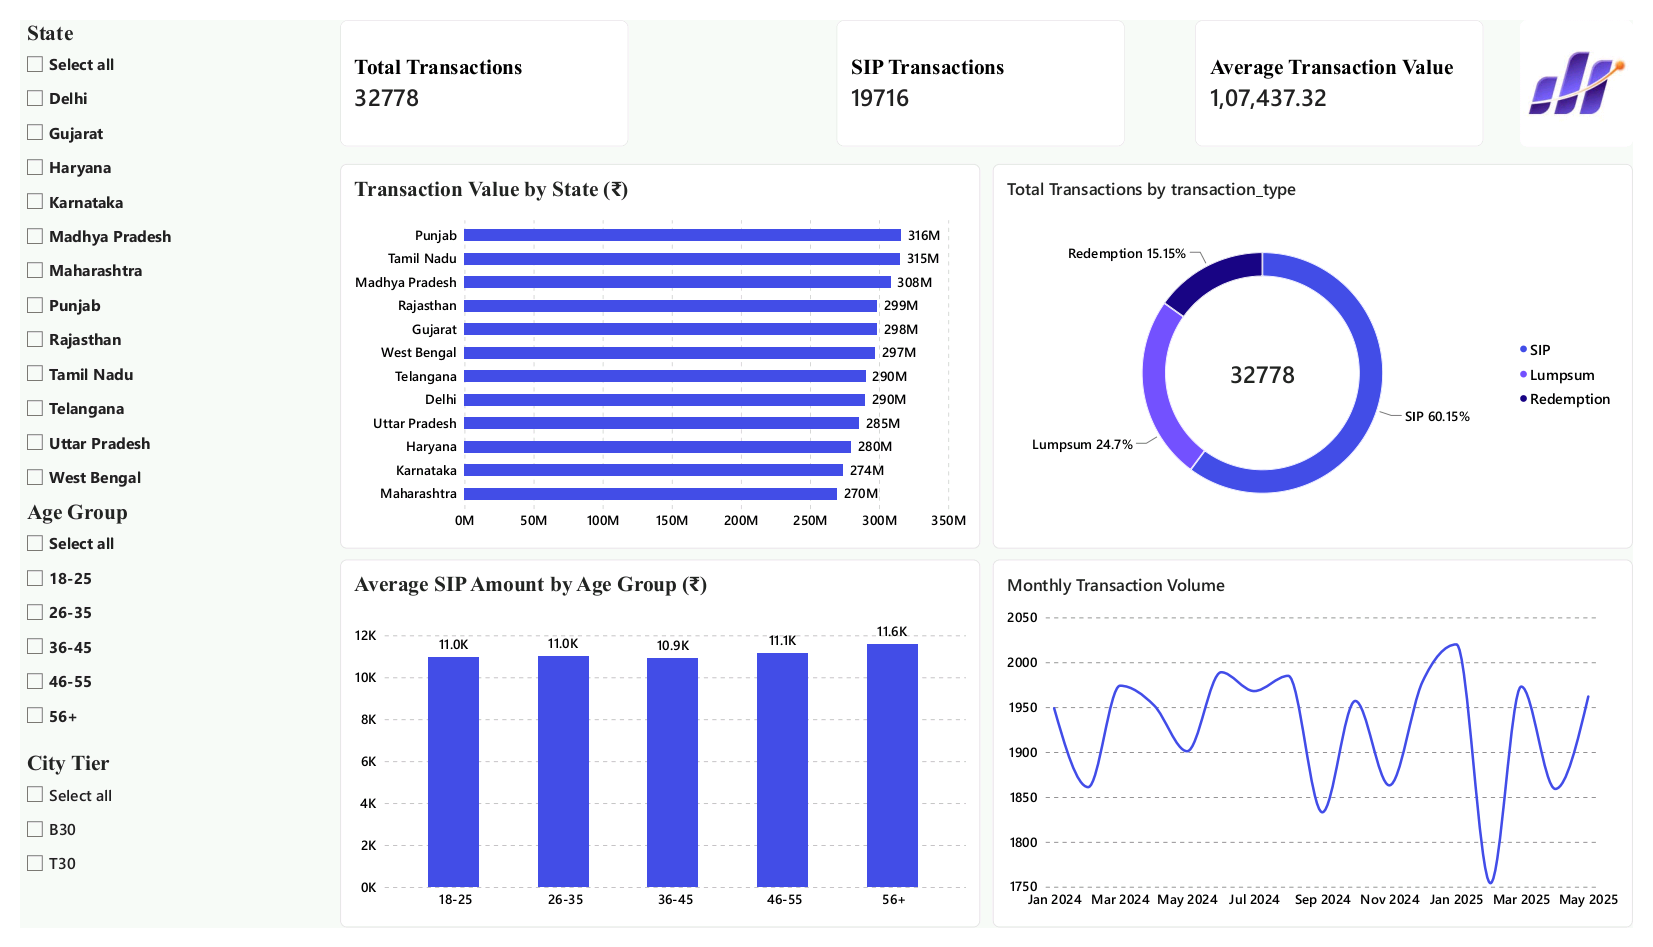

What the dashboard file says about the page in this screenshot:
{"tool":"powerbi","page":{"name":"Investor & Risk Analysis","canvas":[1920,1080],"ordinal":2},"visuals":[{"type":"cardVisual","fields":{"Data":["fact_transactions.Total Transactions"]},"box":[381.2,0,342.9,149.5],"z":0},{"type":"cardVisual","fields":{"Data":["fact_transactions.SIP Transactions"]},"box":[896.5,0,342.9,149.5],"z":1000},{"type":"cardVisual","fields":{"Data":["fact_transactions.Average Transaction Value"]},"box":[1398.8,0,342.9,149.5],"z":2000},{"type":"clusteredBarChart","title":"Transaction Value by State (₹)","fields":{"Category":["fact_transactions.state"],"Y":["Sum(fact_transactions.amount_inr)"]},"box":[381.2,171.4,762.3,457.8],"z":3000},{"type":"donutChart","fields":{"Category":["fact_transactions.transaction_type"],"Y":["fact_transactions.Total Transactions"]},"box":[1158.1,171.4,762.3,457.8],"z":4000},{"type":"clusteredColumnChart","title":"Average SIP Amount by Age Group (₹)","fields":{"Category":["fact_transactions.age_group"],"Y":["fact_transactions.Average SIP Amount"]},"box":[381.2,641.9,762.3,437.7],"z":5000},{"type":"lineChart","title":"Monthly Transaction Volume","fields":{"Category":["dim_date.date.Variation.Date Hierarchy.Year","dim_date.date.Variation.Date Hierarchy.Month"],"Y":["fact_transactions.Transaction Volume"]},"box":[1158.1,641.9,762.3,437.7],"z":6000},{"type":"slicer","fields":{"Values":["fact_transactions.state"]},"box":[0,0,342.9,570.7],"z":7000},{"type":"slicer","fields":{"Values":["fact_transactions.age_group"]},"box":[0,570.7,321.2,299.5],"z":8000},{"type":"slicer","fields":{"Values":["fact_transactions.city_tier"]},"box":[0,870.2,321.2,171.4],"z":9000},{"type":"image","box":[1786,0,134,150],"z":10000}]}

Visuals, with their boxes in screenshot pixels (x1, y1, x2, y2), scaled from the page's 1920x1080 canvas onto the 1653x947 screenshot:
cardVisual - fact_transactions.Total Transactions: [328,0,623,131]
cardVisual - fact_transactions.SIP Transactions: [772,0,1067,131]
cardVisual - fact_transactions.Average Transaction Value: [1204,0,1499,131]
"Transaction Value by State (₹)" clusteredBarChart: [328,150,984,552]
donutChart - fact_transactions.transaction_type x fact_transactions.Total Transactions: [997,150,1652,552]
"Average SIP Amount by Age Group (₹)" clusteredColumnChart: [328,563,984,946]
"Monthly Transaction Volume" lineChart: [997,563,1652,946]
slicer - fact_transactions.state: [0,0,295,500]
slicer - fact_transactions.age_group: [0,500,277,763]
slicer - fact_transactions.city_tier: [0,763,277,913]
image: [1538,0,1652,132]
